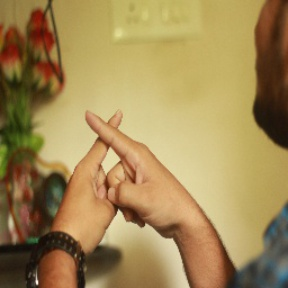X: (60, 103, 163, 213)
